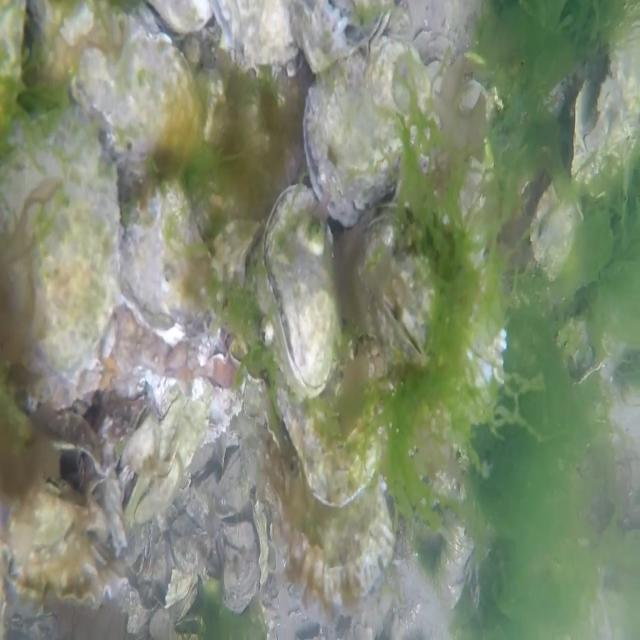Oyster-Closed: (0, 112, 119, 379), (36, 0, 201, 165), (303, 28, 431, 226), (259, 185, 339, 396), (120, 182, 212, 334), (287, 0, 392, 74), (530, 186, 580, 280)
Oyster-Indeterminate: (354, 215, 508, 426), (266, 406, 394, 610), (274, 319, 394, 506), (124, 392, 205, 522), (5, 540, 126, 608), (570, 69, 632, 189), (0, 489, 97, 557), (211, 0, 297, 68), (220, 522, 259, 612), (213, 444, 254, 518)
Oyster-Open: (32, 411, 107, 492), (421, 53, 445, 88)
